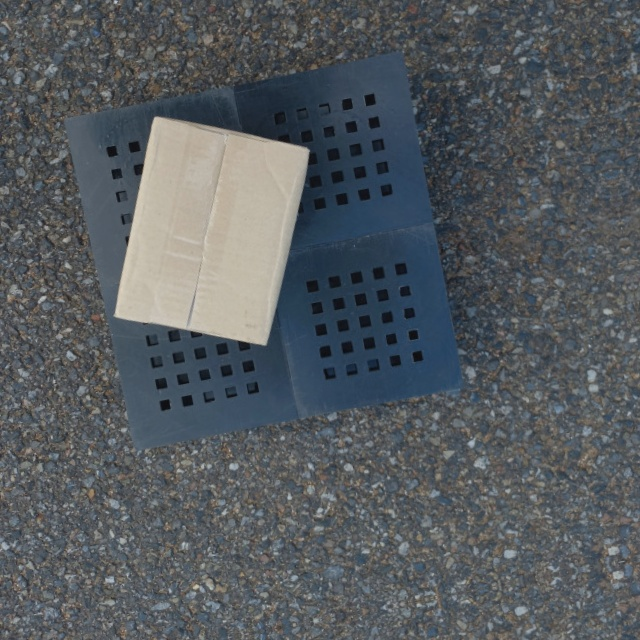box: (105, 111, 317, 349)
pallet: (65, 40, 468, 459)
